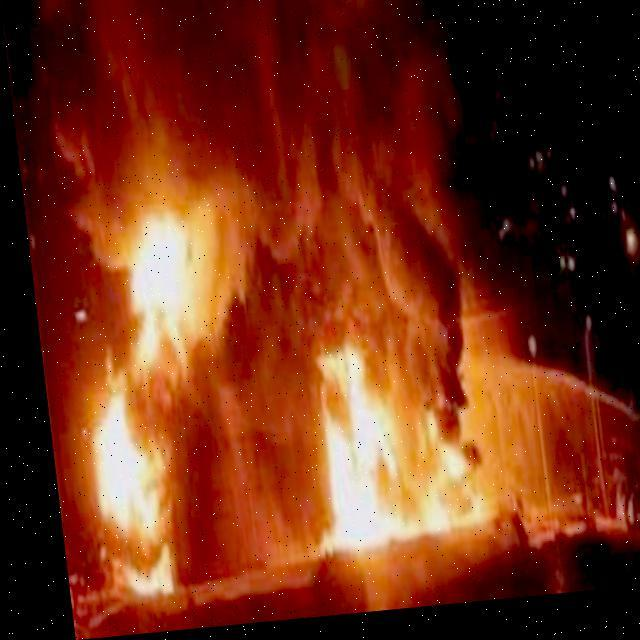Fire: (54, 176, 473, 600)
